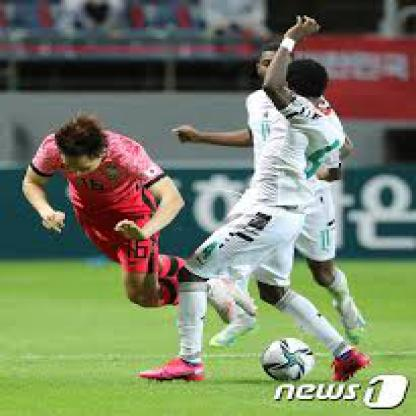Fall_Down: (20, 113, 259, 327)
